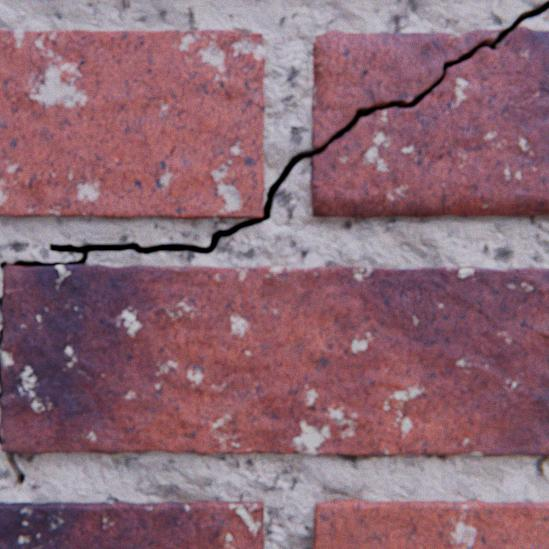brick: (1, 264, 548, 454), (0, 30, 265, 219), (0, 500, 264, 548), (313, 498, 548, 548)
broken_brick: (310, 27, 548, 217), (311, 29, 501, 149)
crack: (0, 0, 548, 282), (7, 451, 25, 487), (0, 324, 3, 419), (0, 295, 4, 316), (0, 424, 2, 445)
